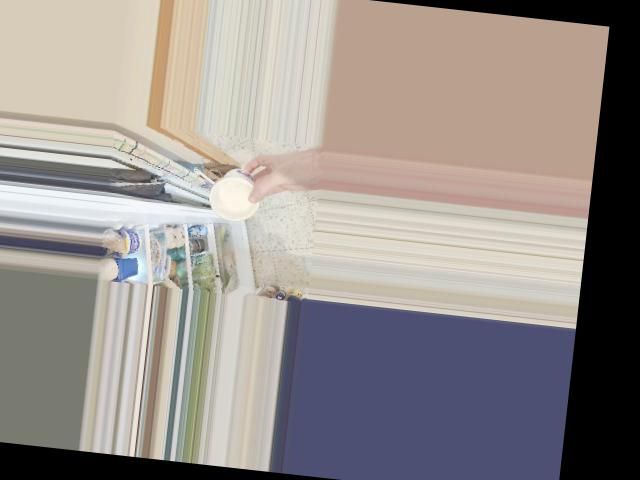cotage: (206, 160, 260, 219)
